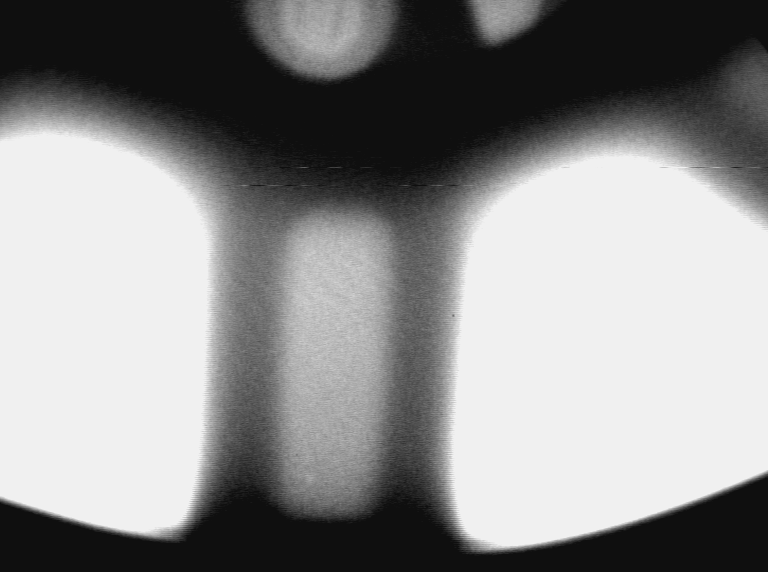defect: (297, 436, 319, 490)
